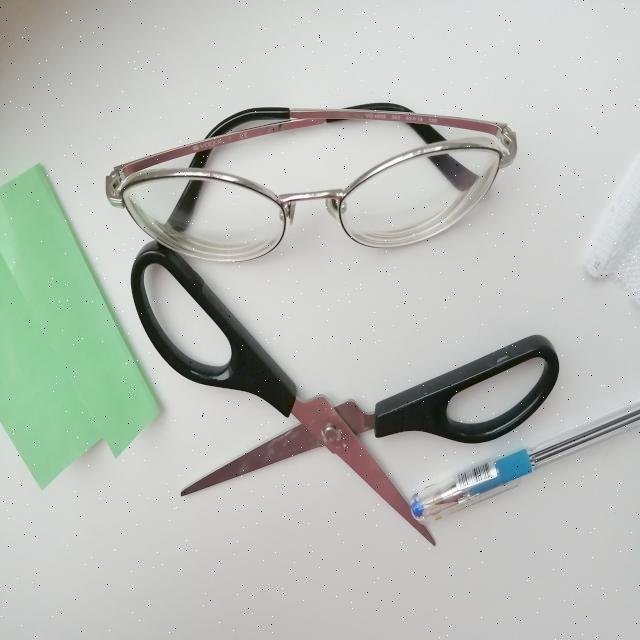scissors: (108, 235, 570, 563)
